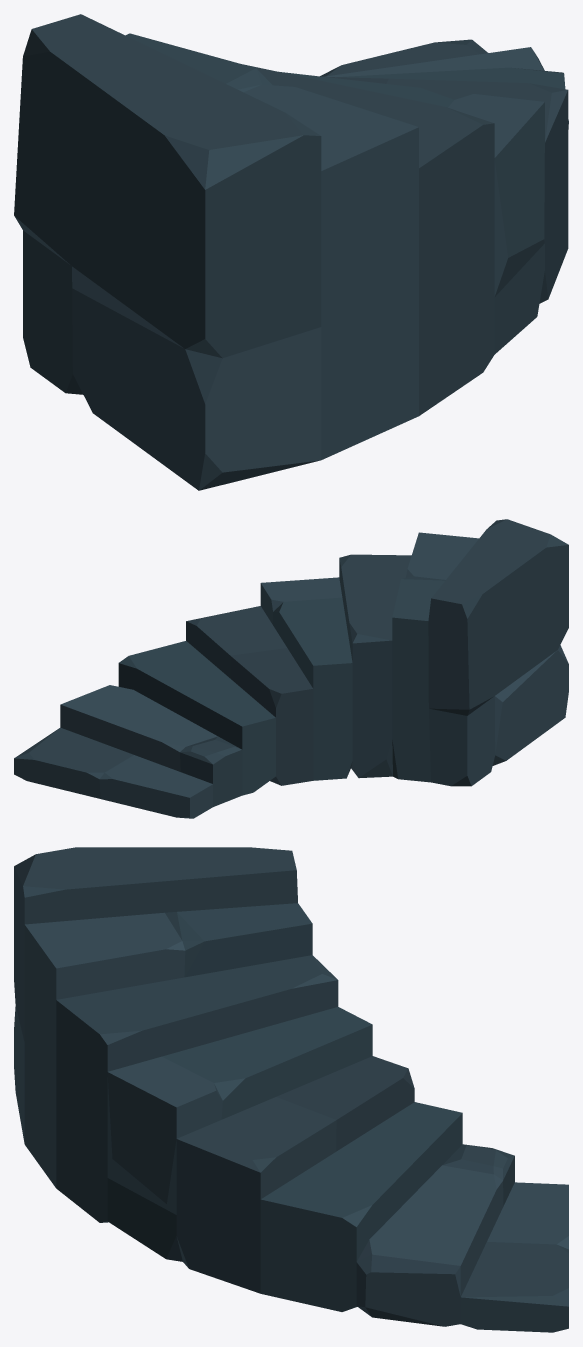
File: stair_spiral_wide_clock.fbx
The picture shows the model from 3 angles, top to bottom: view 1: azimuth 30°, elevation 25°; view 2: azimuth 150°, elevation 25°; view 3: azimuth 270°, elevation 25°; orthographic projection. The views are drawn at different scales.
Visible parts, largest first — view 1: stair_spiral_wide_clock; view 2: stair_spiral_wide_clock; view 3: stair_spiral_wide_clock.
Boxes of the visible parts, box(x1,y1,x2,y2) form: stair_spiral_wide_clock: box(14, 14, 568, 490); stair_spiral_wide_clock: box(14, 519, 568, 818); stair_spiral_wide_clock: box(14, 847, 568, 1332).
Size of the model in its own units: 404 by 205 by 400.
